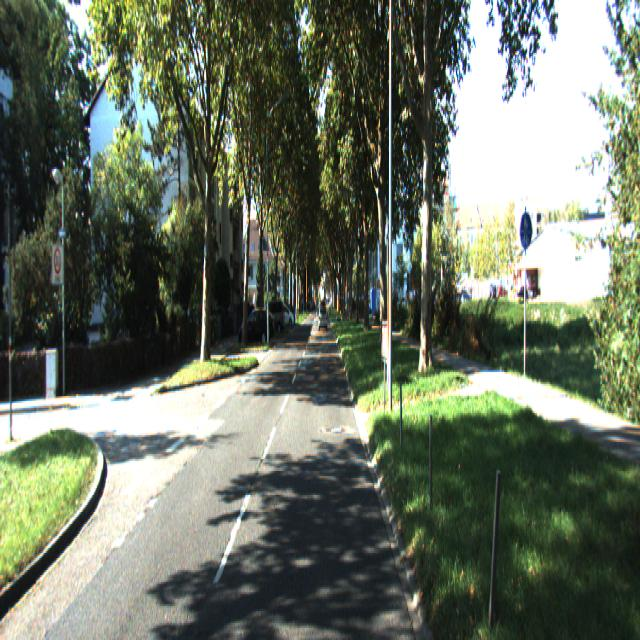Car: (241, 304, 272, 346)
